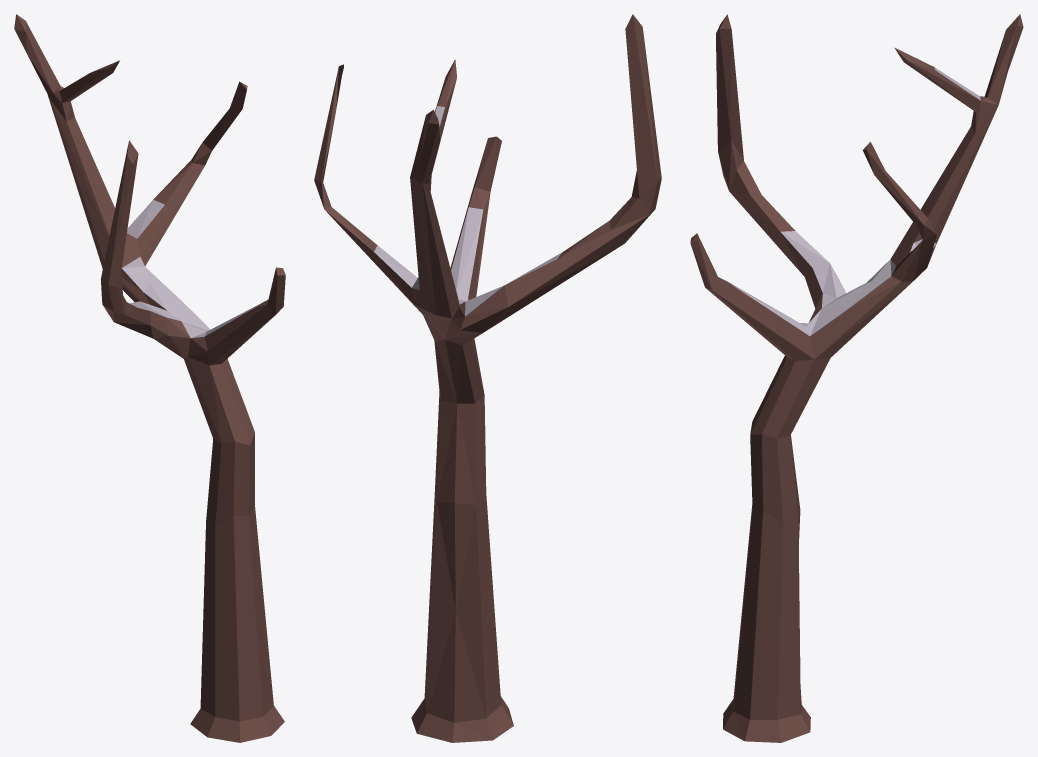
The model's file is CommonTree_Dead_Snow_4.lod2.glb.
3 views of the same model, side by side, from view 1: azimuth 30°, elevation 25°; view 2: azimuth 150°, elevation 25°; view 3: azimuth 270°, elevation 25° (orthographic). The views are drawn at different scales.
Parts seen in each view (by area): view 1: CommonTree_Dead_Snow_4; view 2: CommonTree_Dead_Snow_4; view 3: CommonTree_Dead_Snow_4.
Boxes of the visible parts, left/top/right/bottom form: CommonTree_Dead_Snow_4: left=14, top=14, right=285, bottom=742; CommonTree_Dead_Snow_4: left=314, top=14, right=661, bottom=742; CommonTree_Dead_Snow_4: left=690, top=14, right=1023, bottom=742.
Size of the model in its own units: 0.8132 by 2.37 by 1.08.
